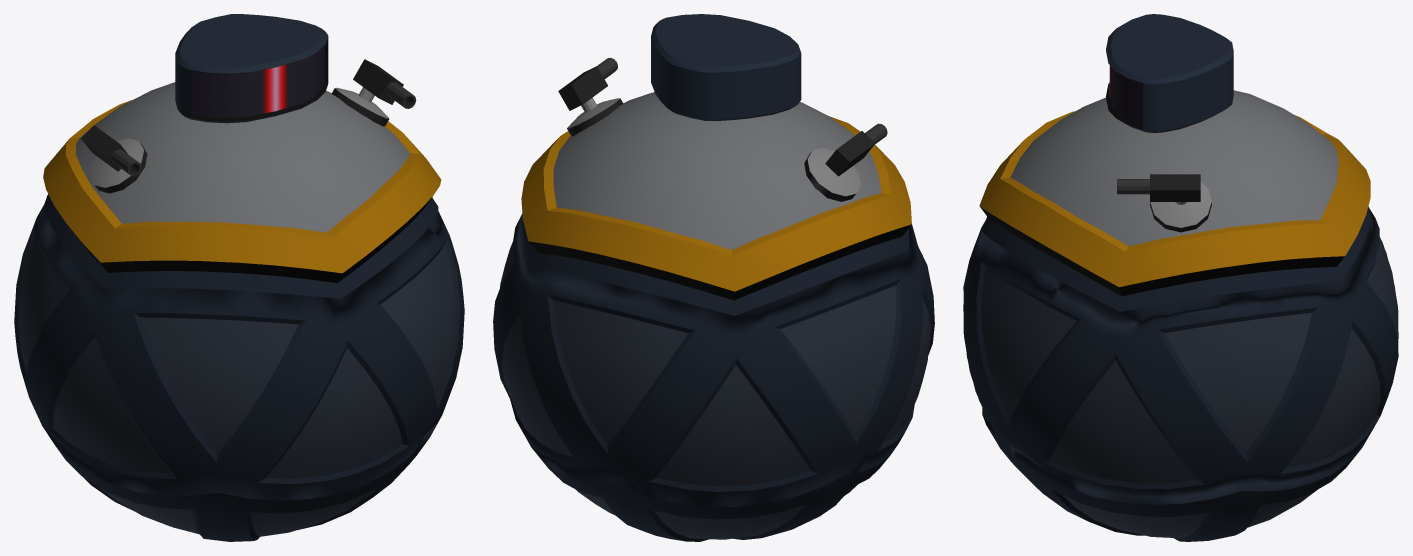
File: RollerBot_Destroyed.fbx
3 views of the same model, side by side, from view 1: azimuth 30°, elevation 25°; view 2: azimuth 150°, elevation 25°; view 3: azimuth 270°, elevation 25° (orthographic). The views are drawn at different scales.
Parts seen in each view (by area): view 1: SphereSegment3, Top, SphereSegment2, Head, SphereSegment1, Eyes, LaserGun, LaserTurretBaseRight, LaserGun (2), LaserTurretBaseLeft; view 2: SphereSegment3, Top, Head, SphereSegment2, SphereSegment1, LaserTurretBaseRight, LaserGun, LaserGun (2), LaserTurretBaseLeft; view 3: SphereSegment3, Top, Head, SphereSegment2, SphereSegment1, LaserGun, LaserTurretBaseLeft, Eyes.
Part boxes in pixels (x1=…): SphereSegment3: x1=14, y1=204, x2=464, y2=500; Top: x1=43, y1=82, x2=441, y2=282; SphereSegment2: x1=55, y1=438, x2=429, y2=541; Head: x1=175, y1=14, x2=328, y2=123; SphereSegment1: x1=44, y1=194, x2=438, y2=298; Eyes: x1=191, y1=45, x2=324, y2=117; LaserGun: x1=353, y1=59, x2=416, y2=108; LaserTurretBaseRight: x1=89, y1=138, x2=147, y2=193; LaserGun (2): x1=81, y1=125, x2=141, y2=175; LaserTurretBaseLeft: x1=331, y1=87, x2=389, y2=126; SphereSegment3: x1=493, y1=214, x2=934, y2=507; Top: x1=521, y1=92, x2=911, y2=300; Head: x1=651, y1=14, x2=801, y2=121; SphereSegment2: x1=539, y1=456, x2=889, y2=541; SphereSegment1: x1=523, y1=222, x2=908, y2=315; LaserTurretBaseRight: x1=804, y1=148, x2=860, y2=201; LaserGun: x1=558, y1=57, x2=617, y2=110; LaserGun (2): x1=825, y1=123, x2=887, y2=176; LaserTurretBaseLeft: x1=567, y1=98, x2=623, y2=136; SphereSegment3: x1=963, y1=208, x2=1398, y2=504; Top: x1=979, y1=90, x2=1370, y2=296; Head: x1=1106, y1=14, x2=1233, y2=132; SphereSegment2: x1=1001, y1=449, x2=1360, y2=541; SphereSegment1: x1=982, y1=206, x2=1369, y2=311; LaserGun: x1=1117, y1=174, x2=1200, y2=201; LaserTurretBaseLeft: x1=1150, y1=182, x2=1211, y2=232; Eyes: x1=1109, y1=65, x2=1143, y2=126.
Size of the model in its own units: 285 by 339 by 281.
1 material, 1 textured.
